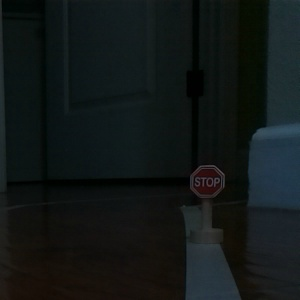stop sign: (187, 163, 228, 246)
